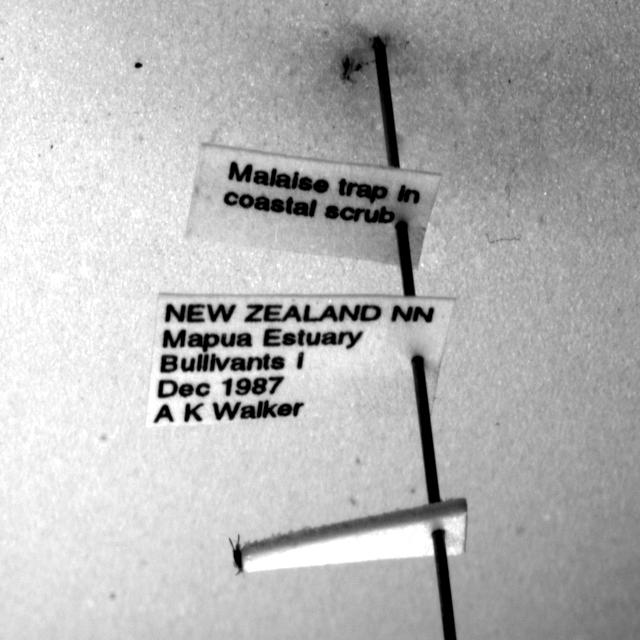typed_label: (146, 294, 454, 426), (188, 144, 440, 266)
